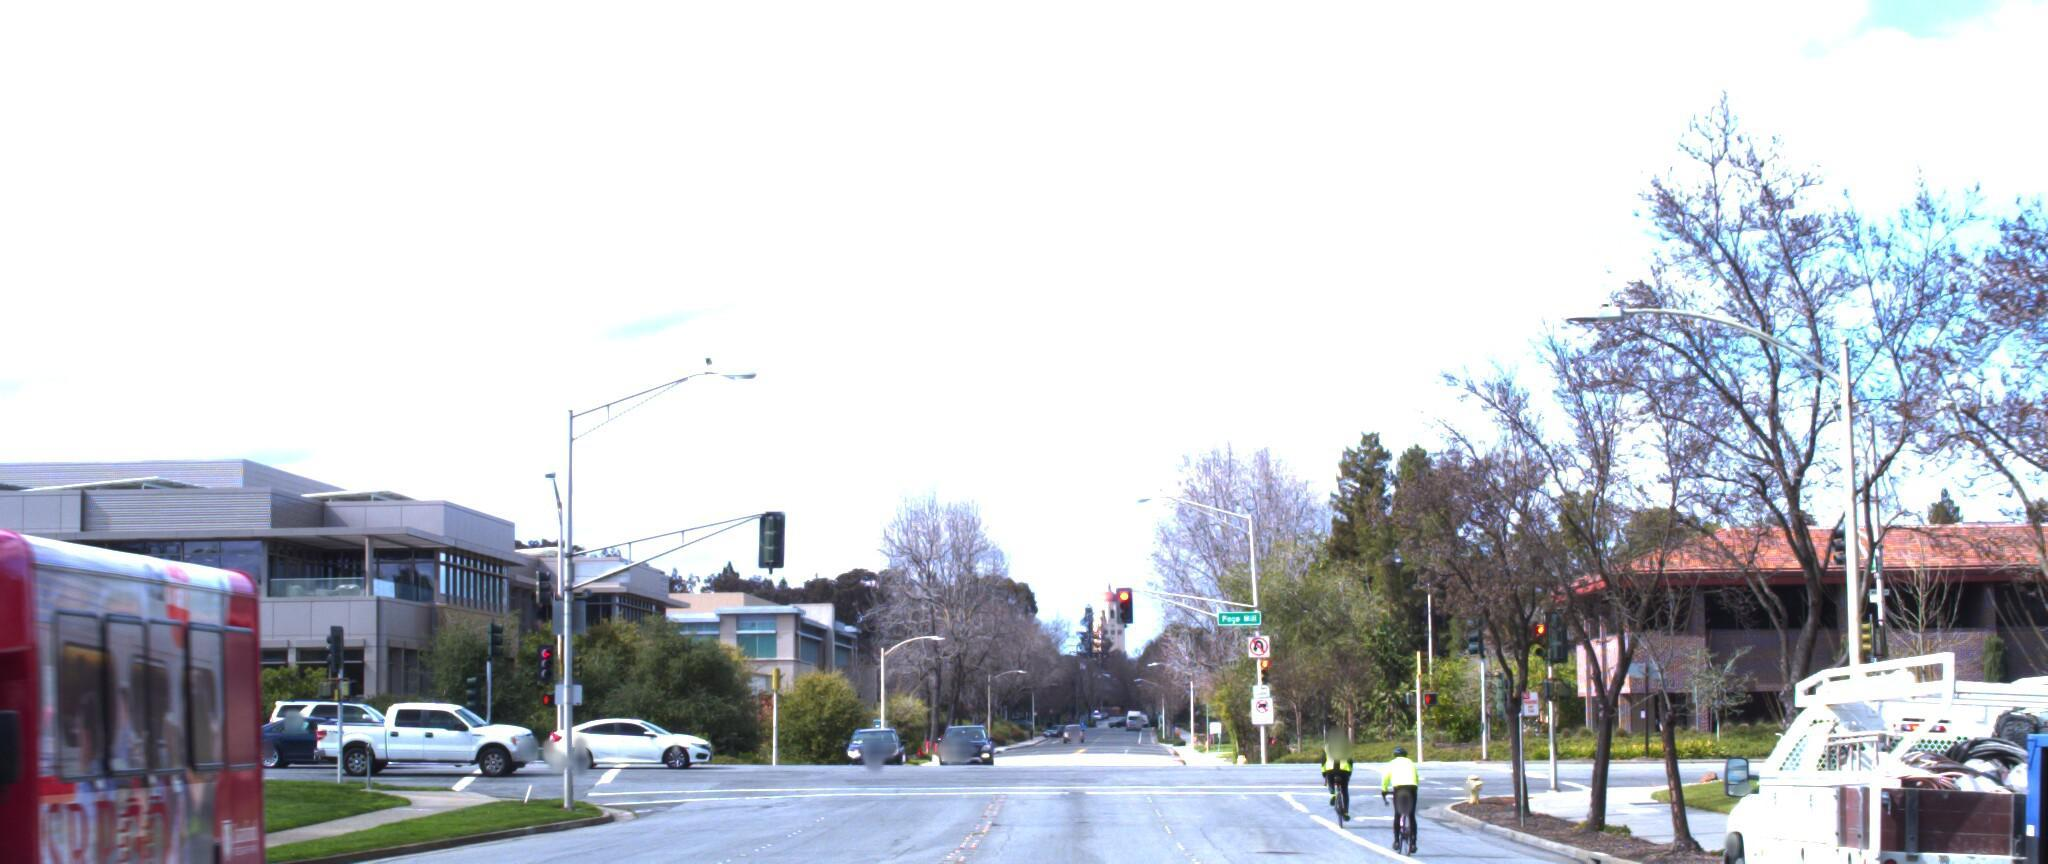bicycle: (1368, 733, 1432, 851), (1309, 736, 1358, 838)
bus: (0, 420, 329, 864)
car: (311, 700, 541, 767), (532, 709, 711, 769)
truck: (1629, 617, 2048, 864)
